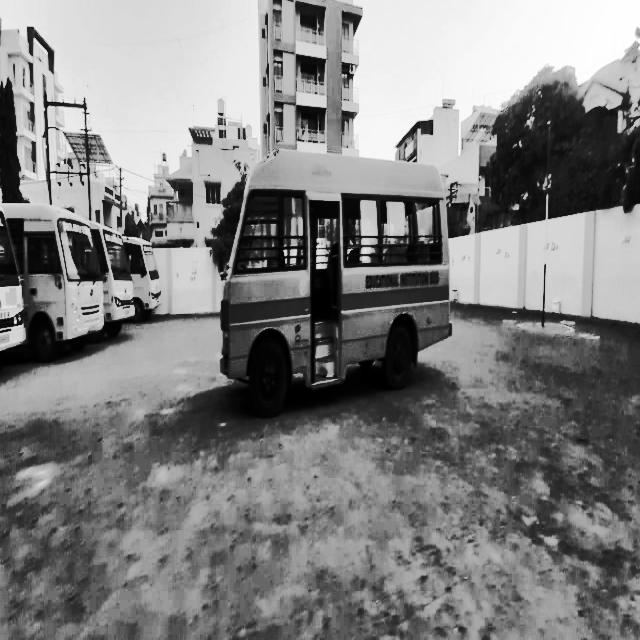Bus: (210, 130, 468, 416), (35, 204, 106, 364), (99, 216, 135, 344), (0, 211, 25, 360), (134, 229, 168, 328)
